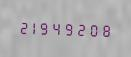eight: (101, 21, 112, 38)
four: (53, 19, 64, 36)
nine: (41, 19, 52, 36), (65, 20, 76, 37)
one: (29, 18, 40, 36)
two: (17, 18, 28, 35), (77, 20, 88, 37)
zero: (89, 20, 100, 38)
